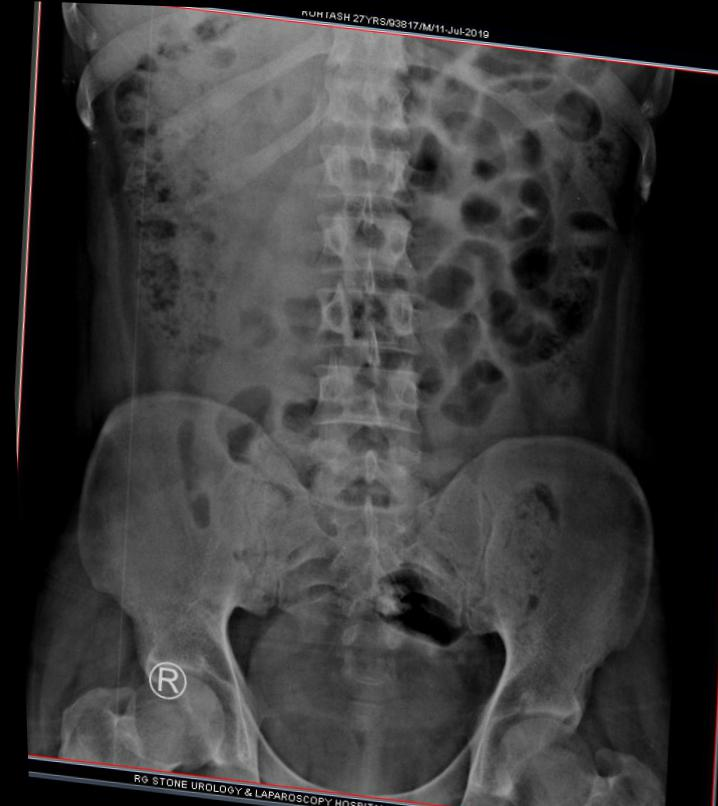bladder: (228, 594, 496, 805)
vertebrae: (307, 132, 416, 207)
